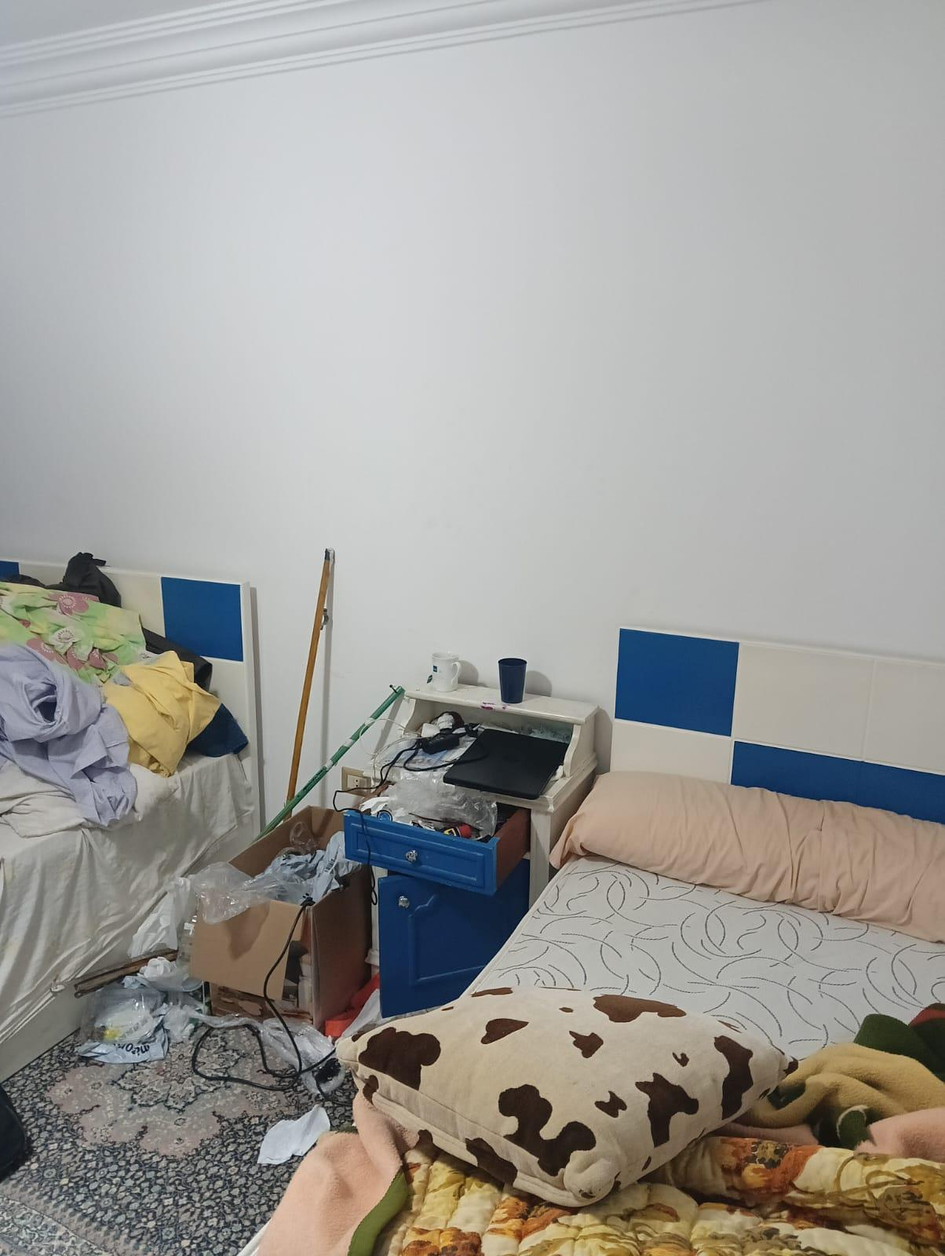cup: (498, 658, 527, 704), (430, 652, 459, 692)
